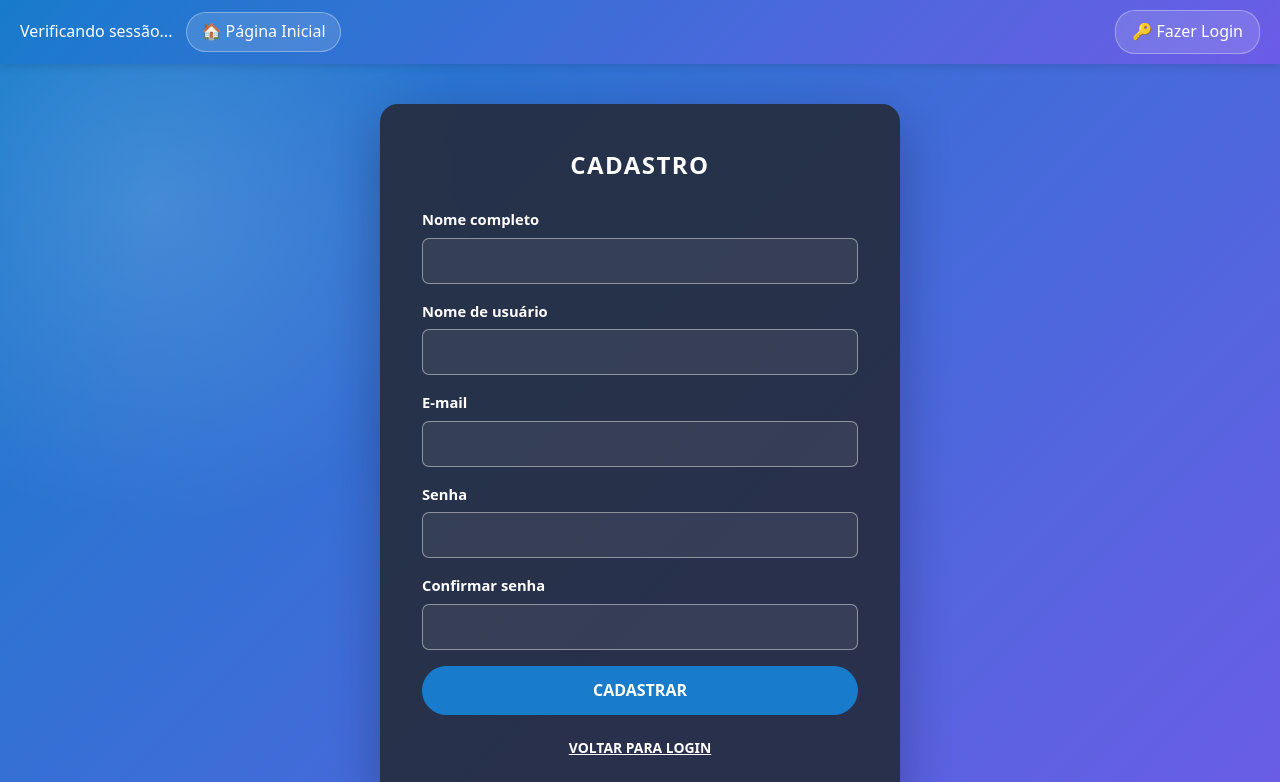
Test: authentication screens › validates registration locally and submits valid registration to the API
Step 1. Click the button "CADASTRAR" → coordinates (640, 690), box [422, 666, 858, 715]
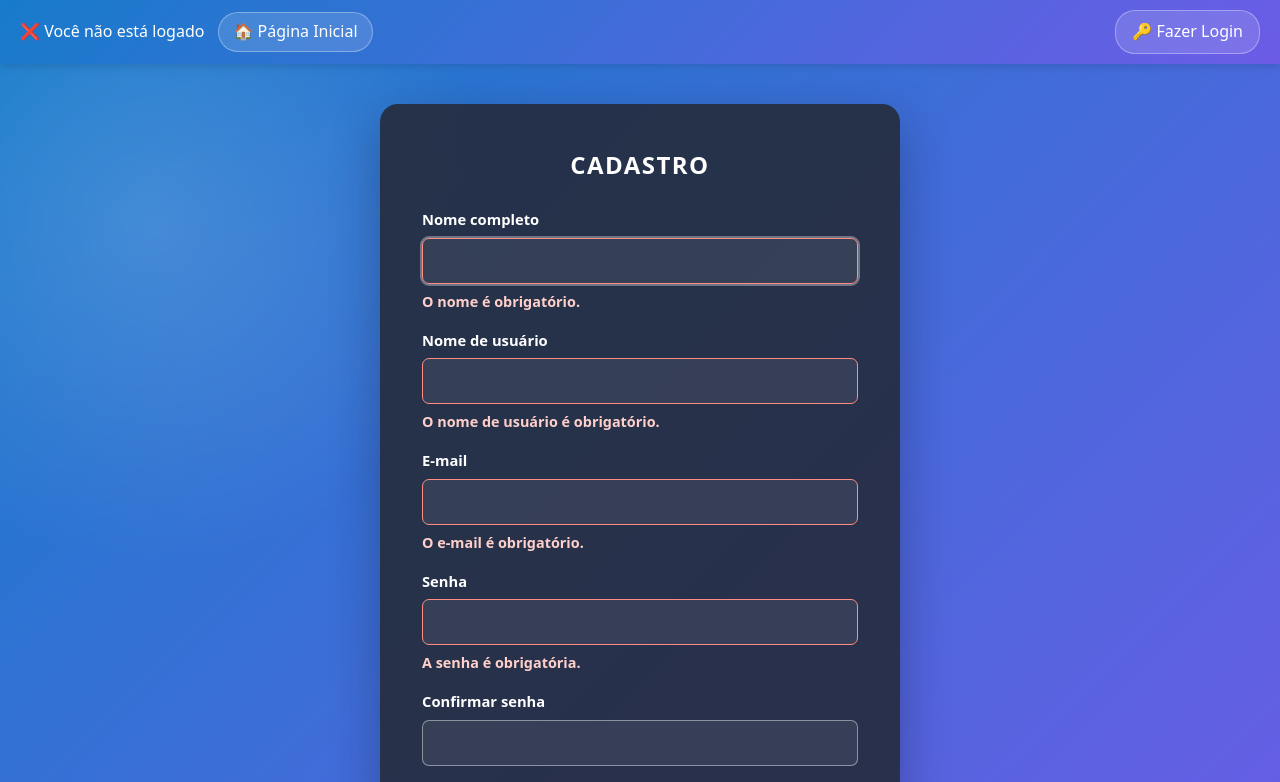
expect the text "O nome é obrigatório." is shown: met, box [422, 292, 580, 310]
expect the text "O nome de usuário é obrigatório." is shown: met, box [422, 412, 660, 431]
expect the text "O e-mail é obrigatório." is shown: met, box [422, 533, 584, 552]
Step 2. Type "Nome de Teste" into the field labelled "Nome completo O nome é obrigatório." → coordinates (640, 260), box [422, 238, 858, 284]
Step 3. Type "novapessoa" into the field labelled "Nome de usuário O nome de usuário é obrigatório." → coordinates (640, 381), box [422, 358, 858, 404]
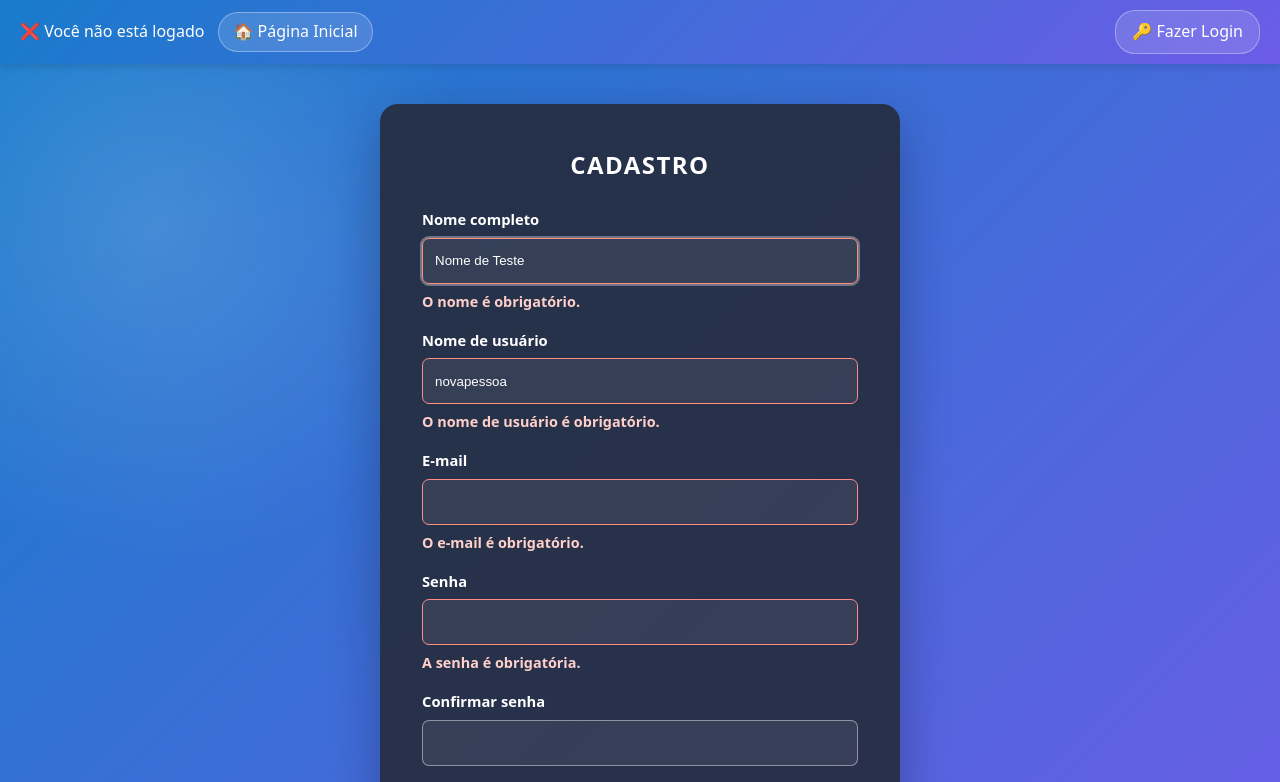
Step 4. Type "nova@example.com" into the field labelled "E-mail O e-mail é obrigatório." → coordinates (640, 502), box [422, 479, 858, 525]
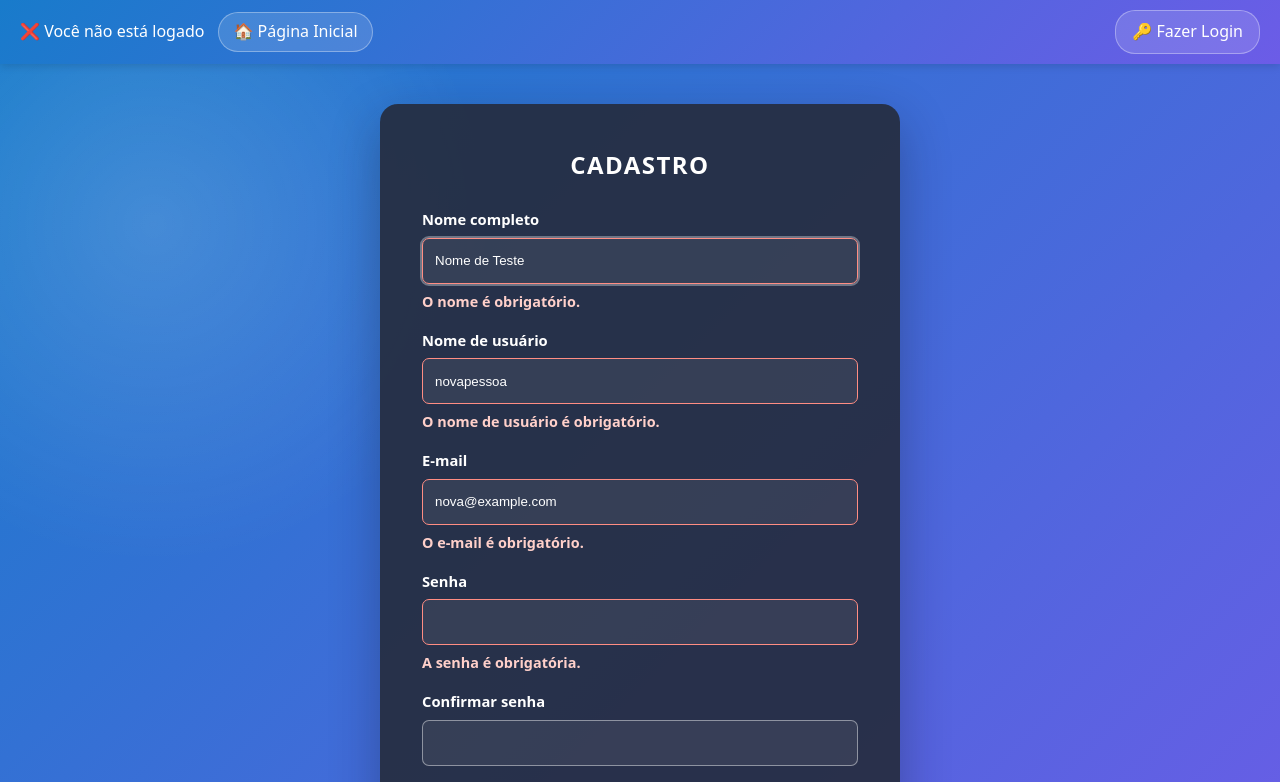
Step 5. Type "senha123" into the password field labelled "Senha A senha é obrigatória." → coordinates (640, 622), box [422, 599, 858, 645]
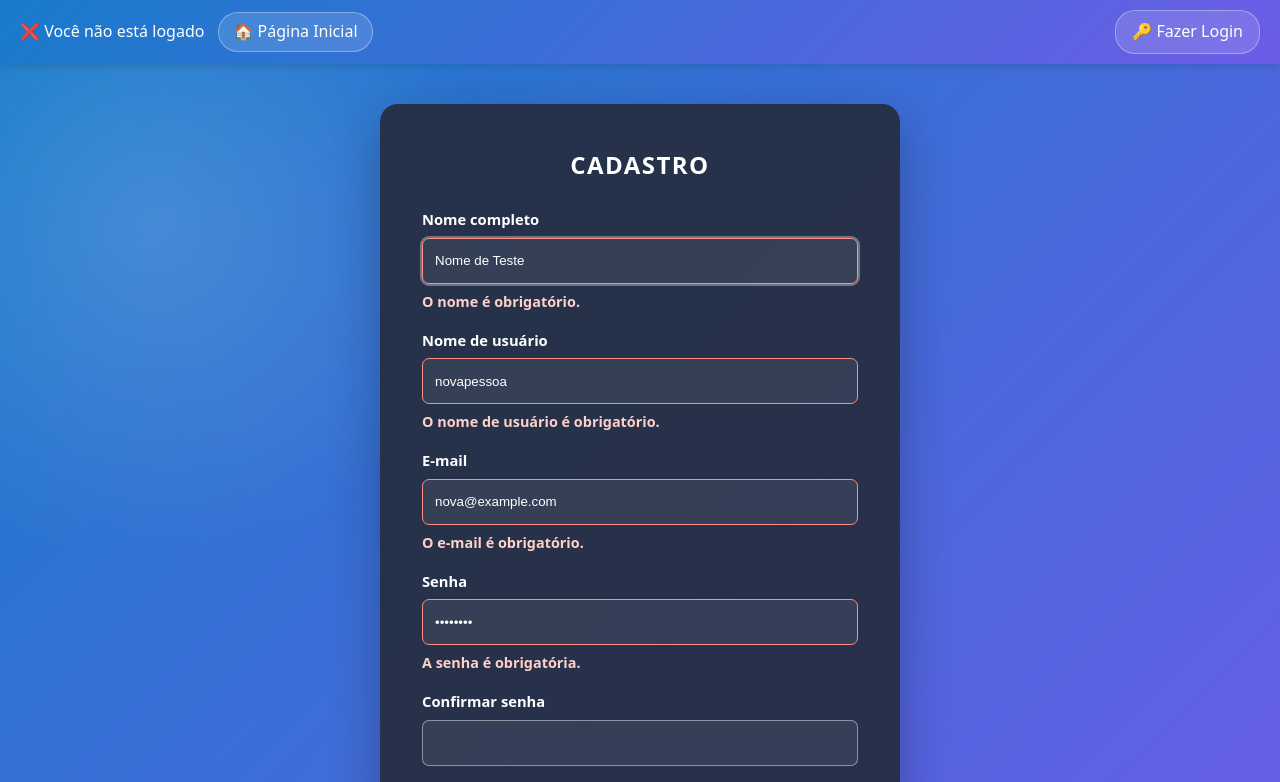
Step 6. Type "senha123" into the password field labelled "Confirmar senha" → coordinates (640, 743), box [422, 720, 858, 766]
(page scrolled)
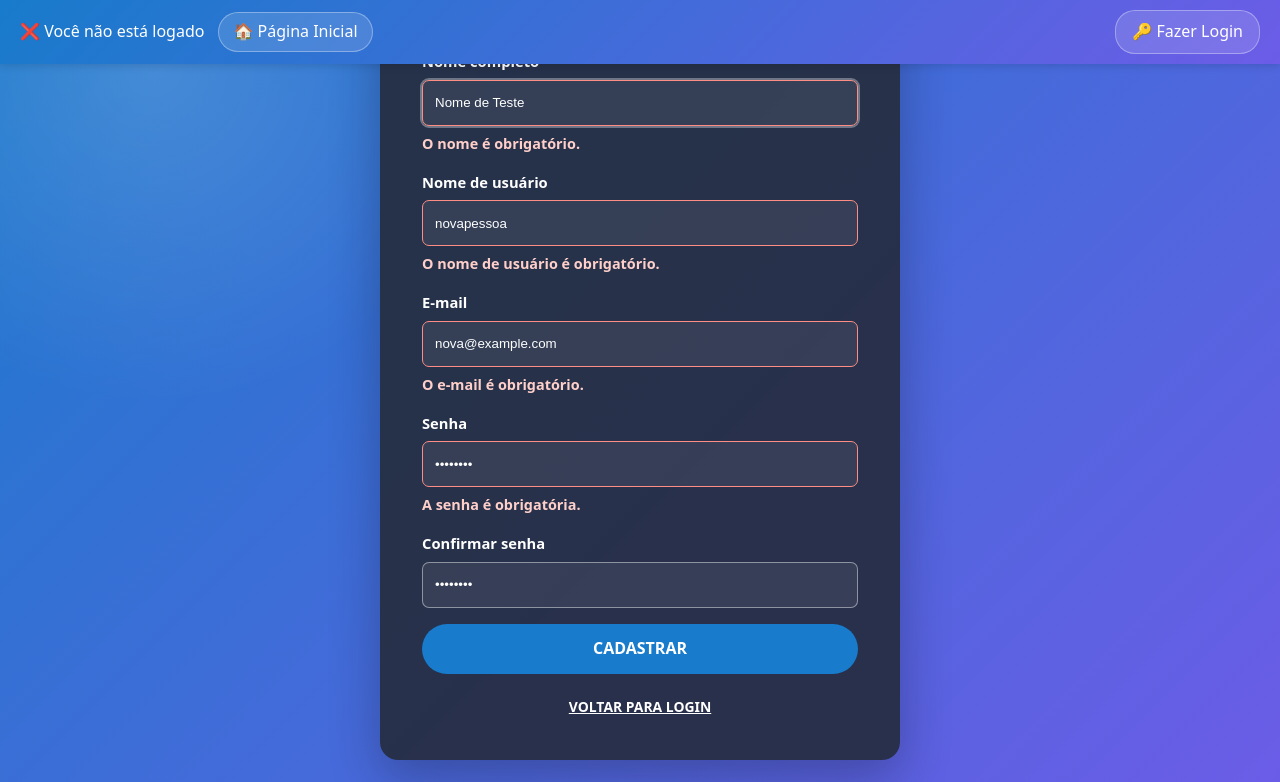
Step 7. Click the button "CADASTRAR" → coordinates (640, 649), box [422, 624, 858, 674]
(page scrolled)
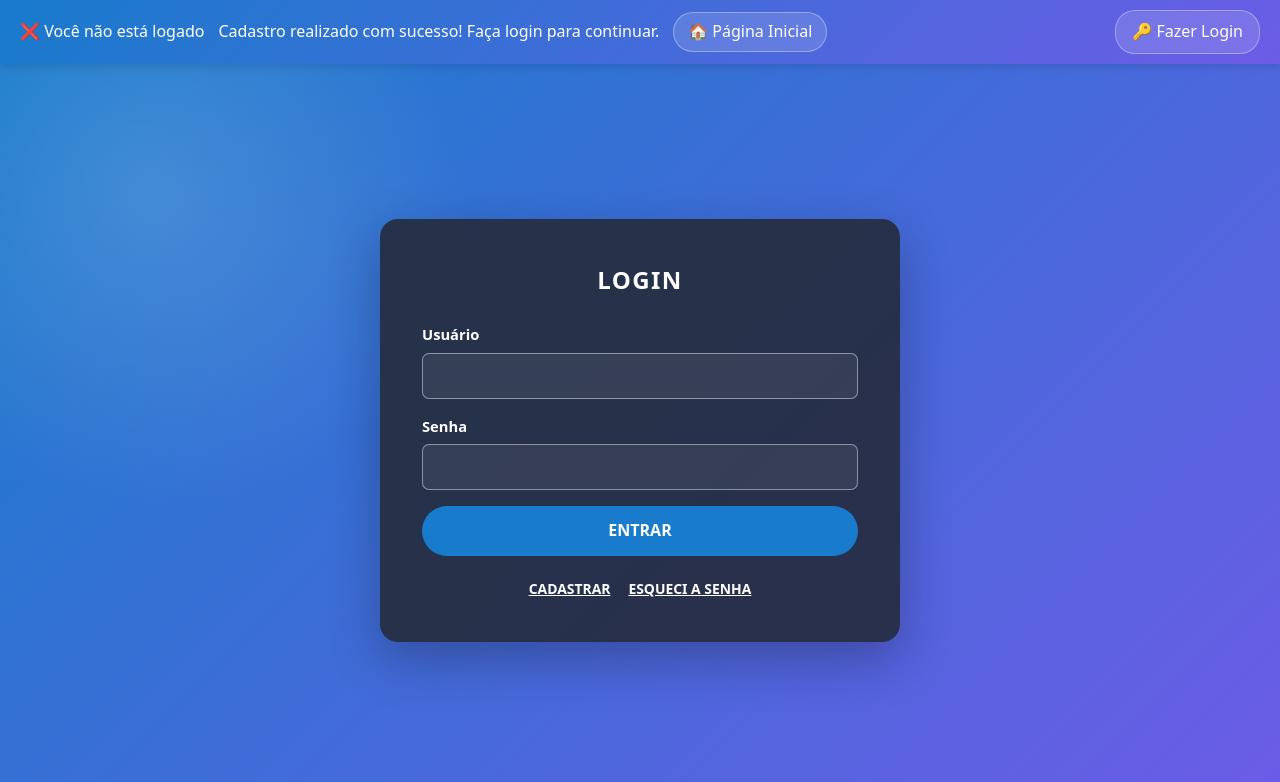
expect the text "Cadastro realizado com sucesso! Faça login para continuar." is shown: met, box [218, 19, 659, 45]
